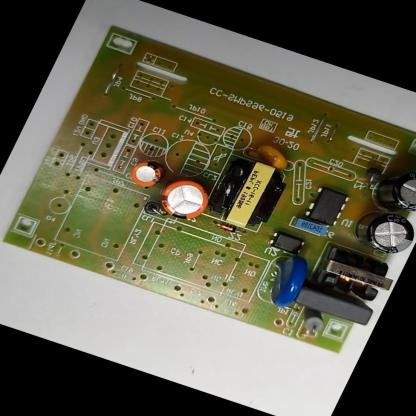Cap1: (152, 173, 216, 224)
Cap2: (124, 156, 166, 190)
Cap3: (345, 201, 416, 260)
Cap4: (364, 158, 416, 222)
MOSFET: (303, 186, 353, 228)
Mov: (255, 247, 316, 310)
Resistor: (296, 307, 332, 336)
Transformer: (200, 149, 294, 235), (307, 241, 403, 310)
